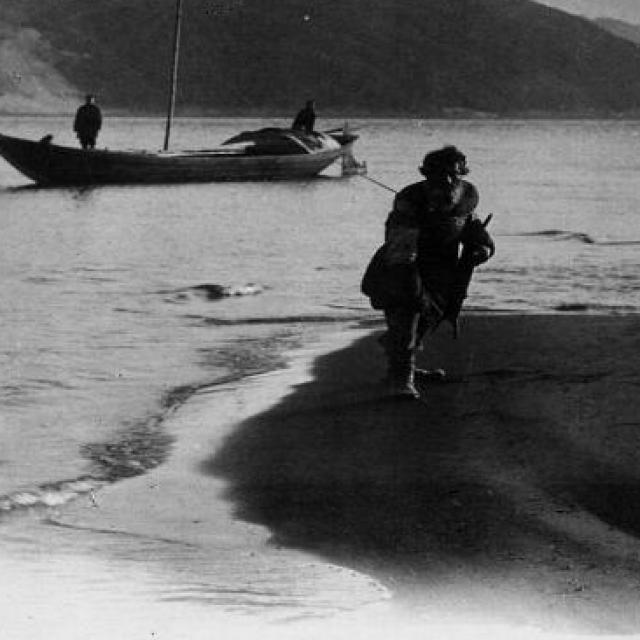ship: (0, 112, 380, 194)
